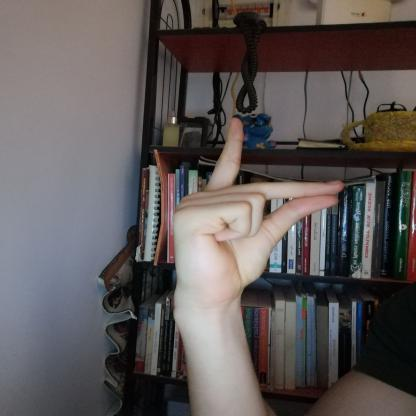TAA: (157, 110, 358, 315)
